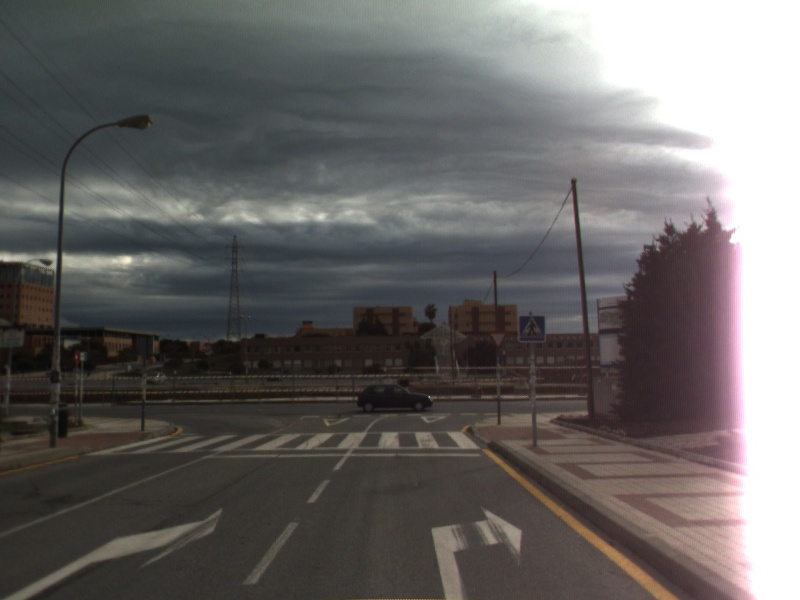RIGHT: (1, 503, 226, 600), (429, 502, 525, 600)
